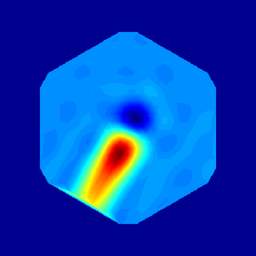ship: (122, 103, 151, 132)
wave: (106, 124, 141, 176)
